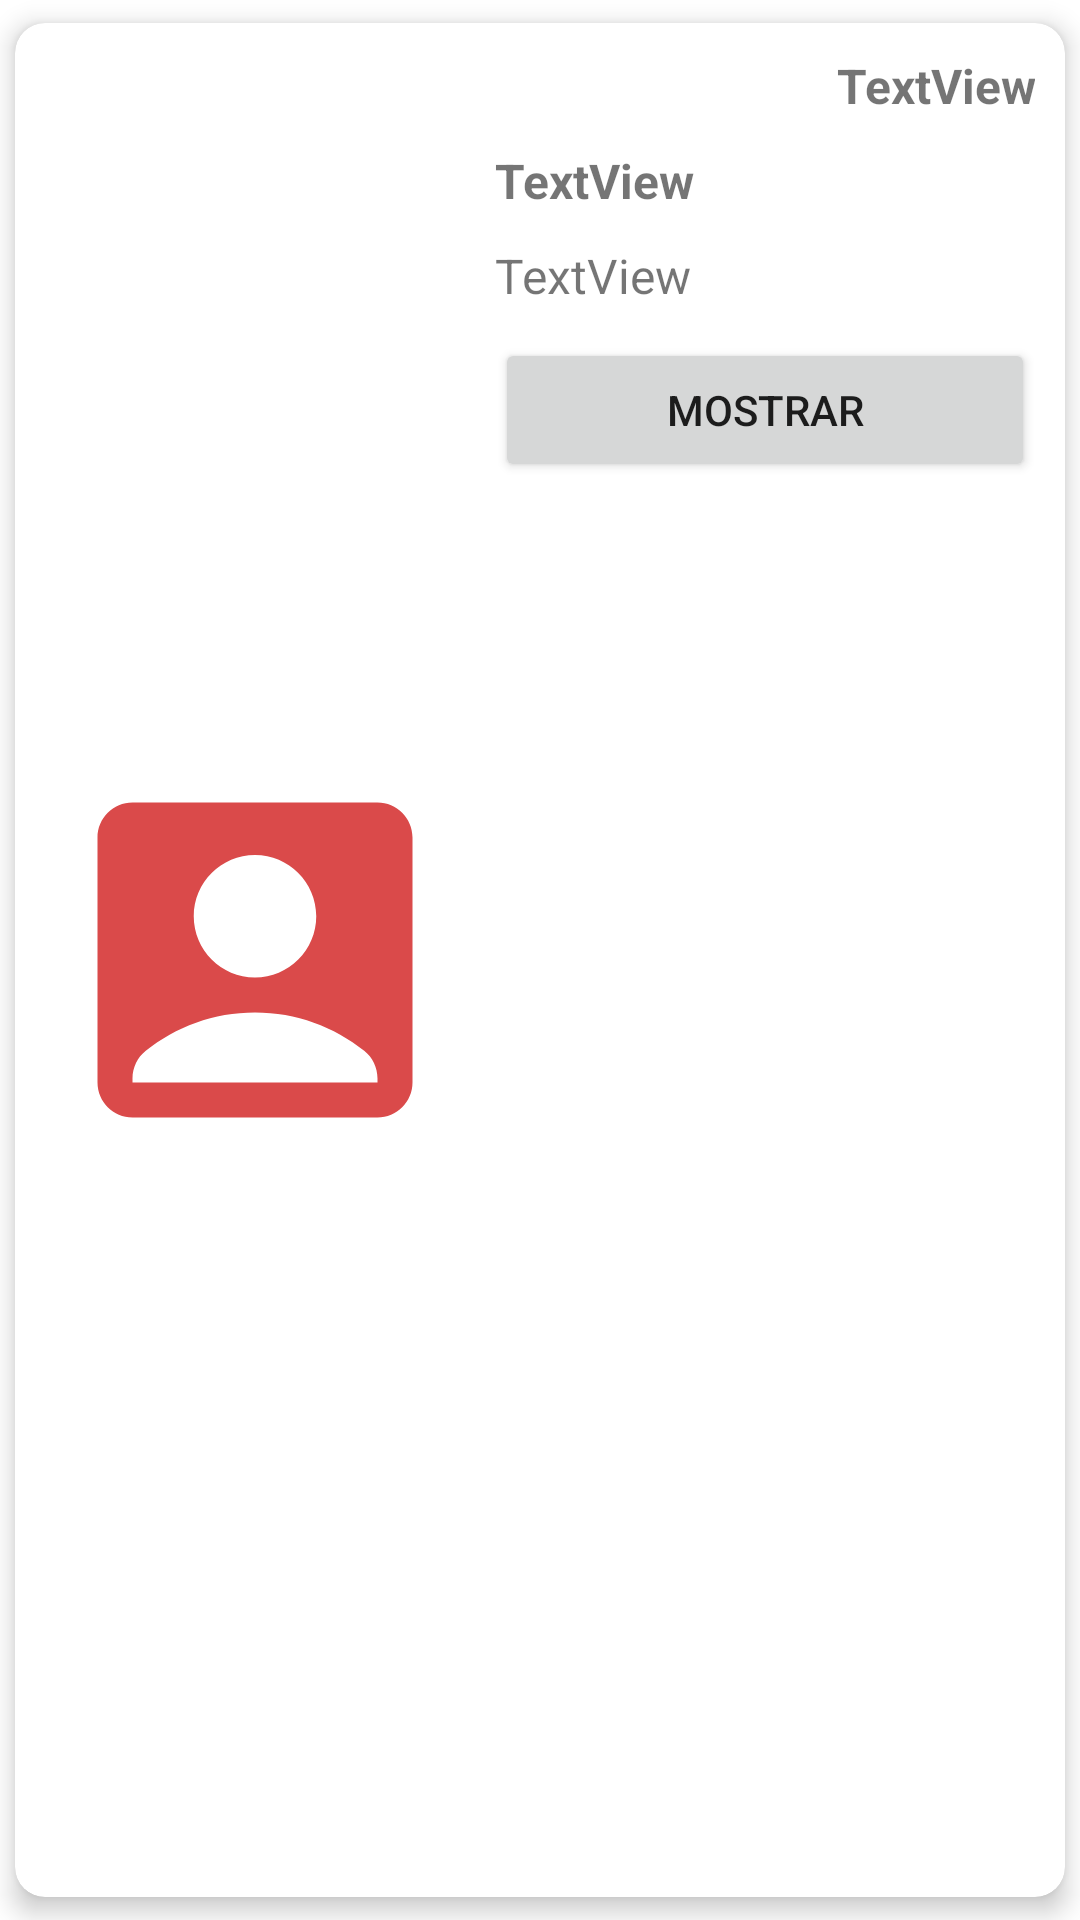

Where icons sit on this 1080x1920 app screen, as (x1, y1, x2, y2):
contact: (97, 802, 413, 1118)
